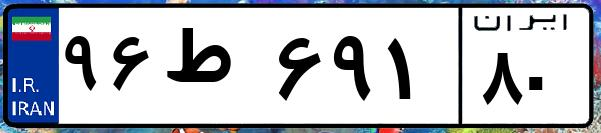0: (525, 38, 570, 115)
1: (385, 28, 445, 110)
6: (270, 28, 330, 110), (110, 28, 158, 98)
8: (475, 38, 525, 113)
9: (330, 28, 385, 110), (57, 26, 110, 100)
ط: (158, 20, 270, 120)
